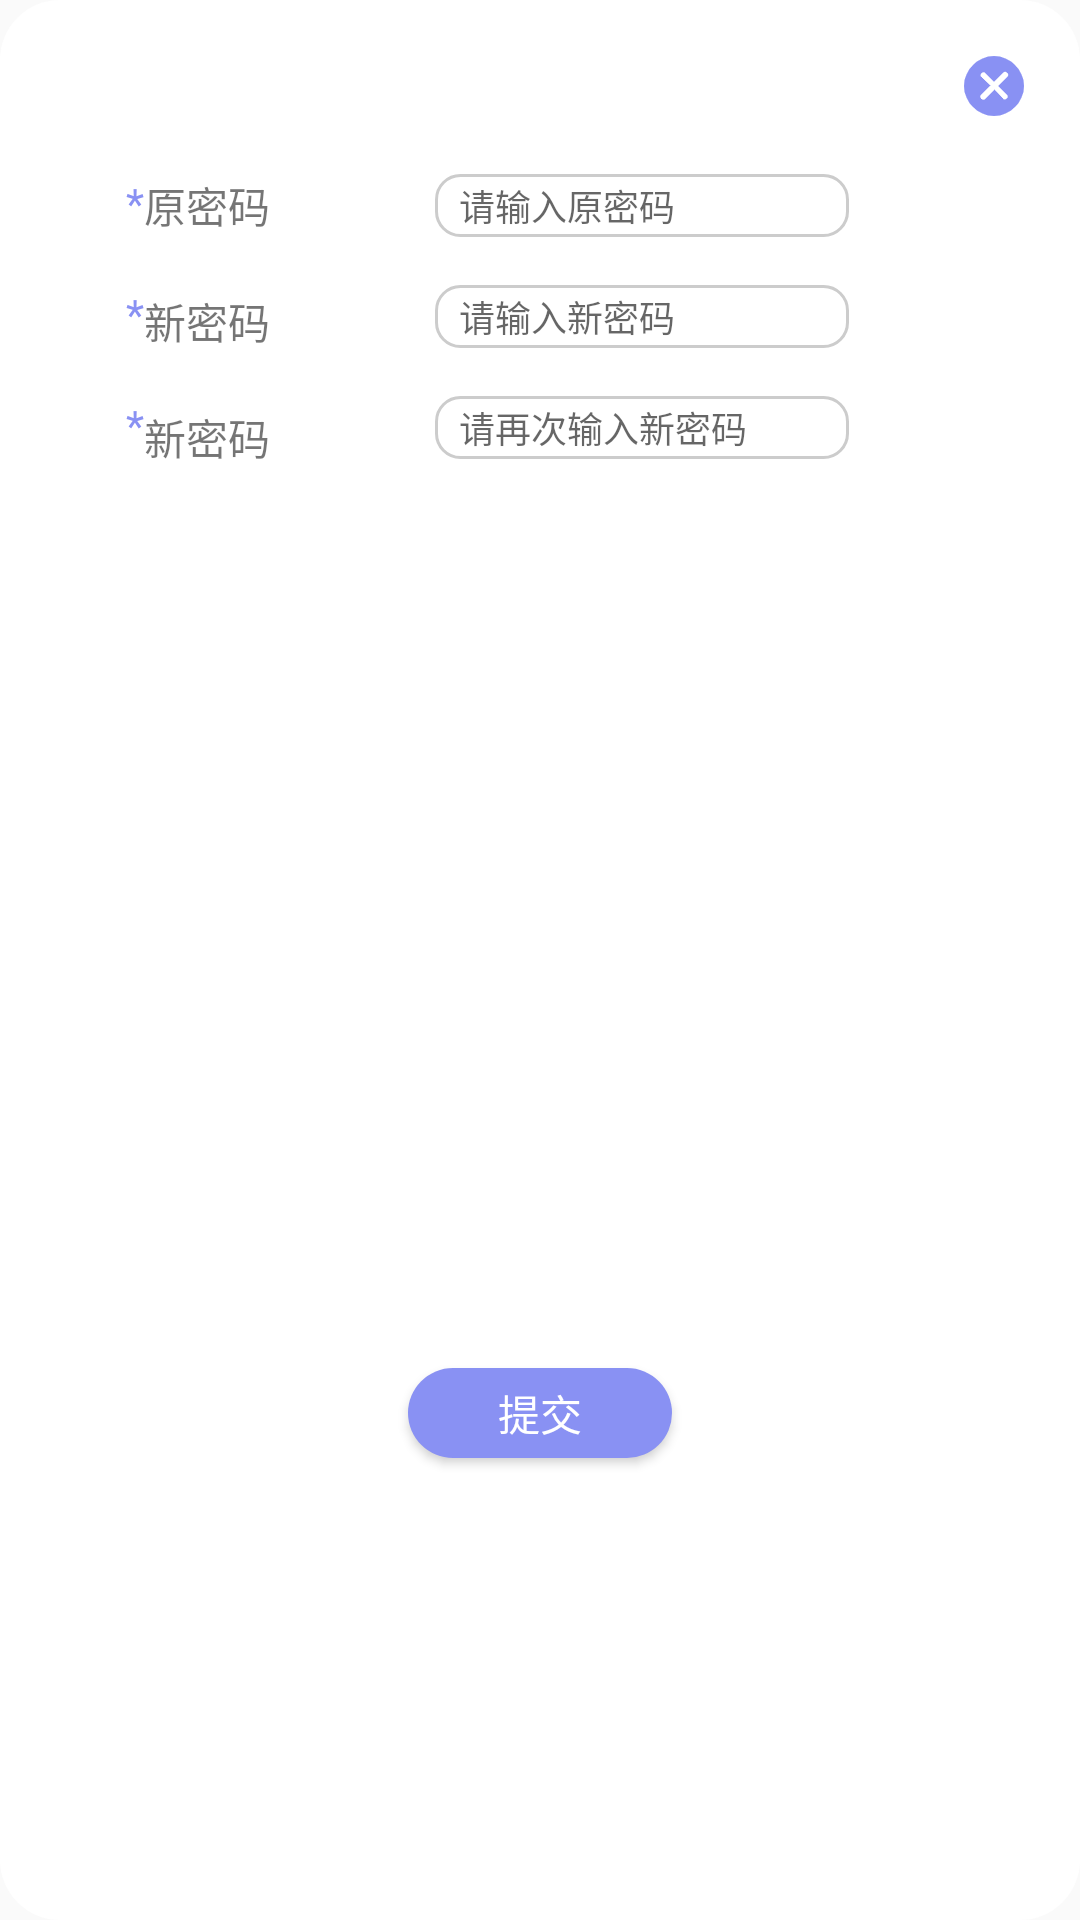

Point at icon controls on the screen. Image size 1080x1920, points as (x,y).
cancel: (994,86)
